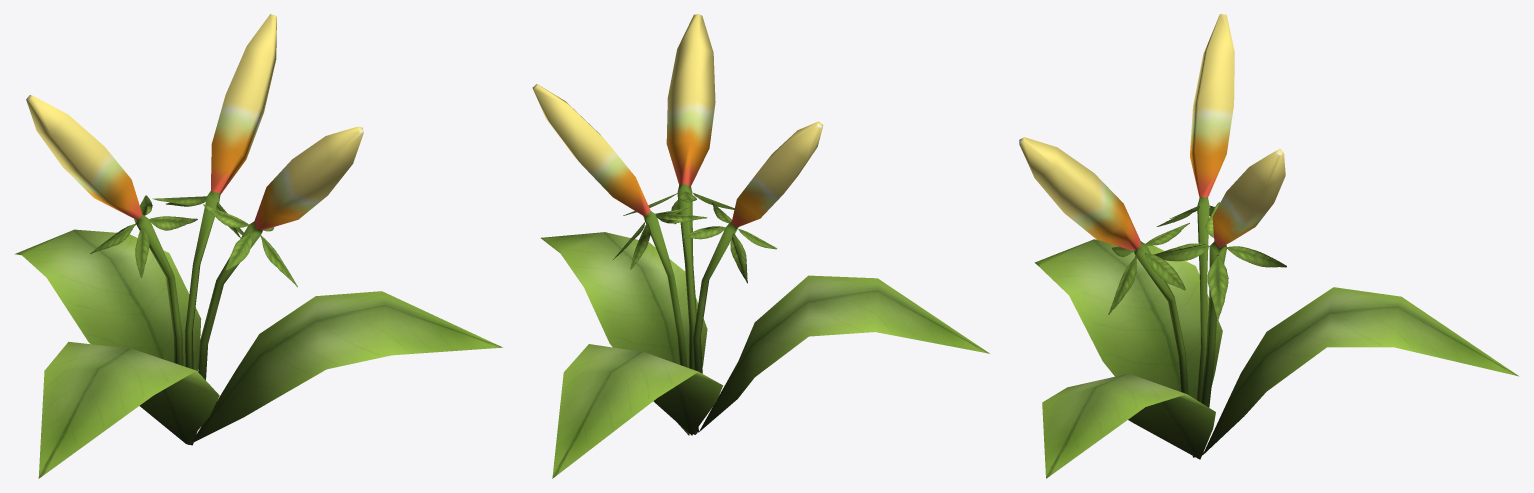
The model's file is Lumina Flower.fbx.
The picture shows the model from 3 angles, left to right: view 1: azimuth 30°, elevation 25°; view 2: azimuth 150°, elevation 25°; view 3: azimuth 270°, elevation 25°; orthographic projection. The views are drawn at different scales.
Visible parts, largest first — view 1: Lumina Flower; view 2: Lumina Flower; view 3: Lumina Flower.
Part boxes in pixels (x1,y1,x2,y2): Lumina Flower: (14, 14, 502, 478); Lumina Flower: (532, 14, 989, 478); Lumina Flower: (1019, 14, 1518, 478).
Bounding box in the file's own units: 1.19 × 0.9089 × 1.1.
2 materials, 2 textured.
